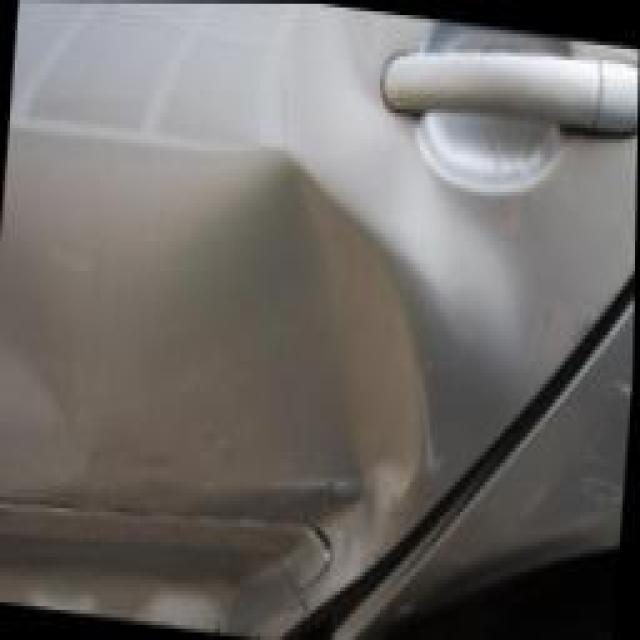Door: (0, 0, 500, 640)
